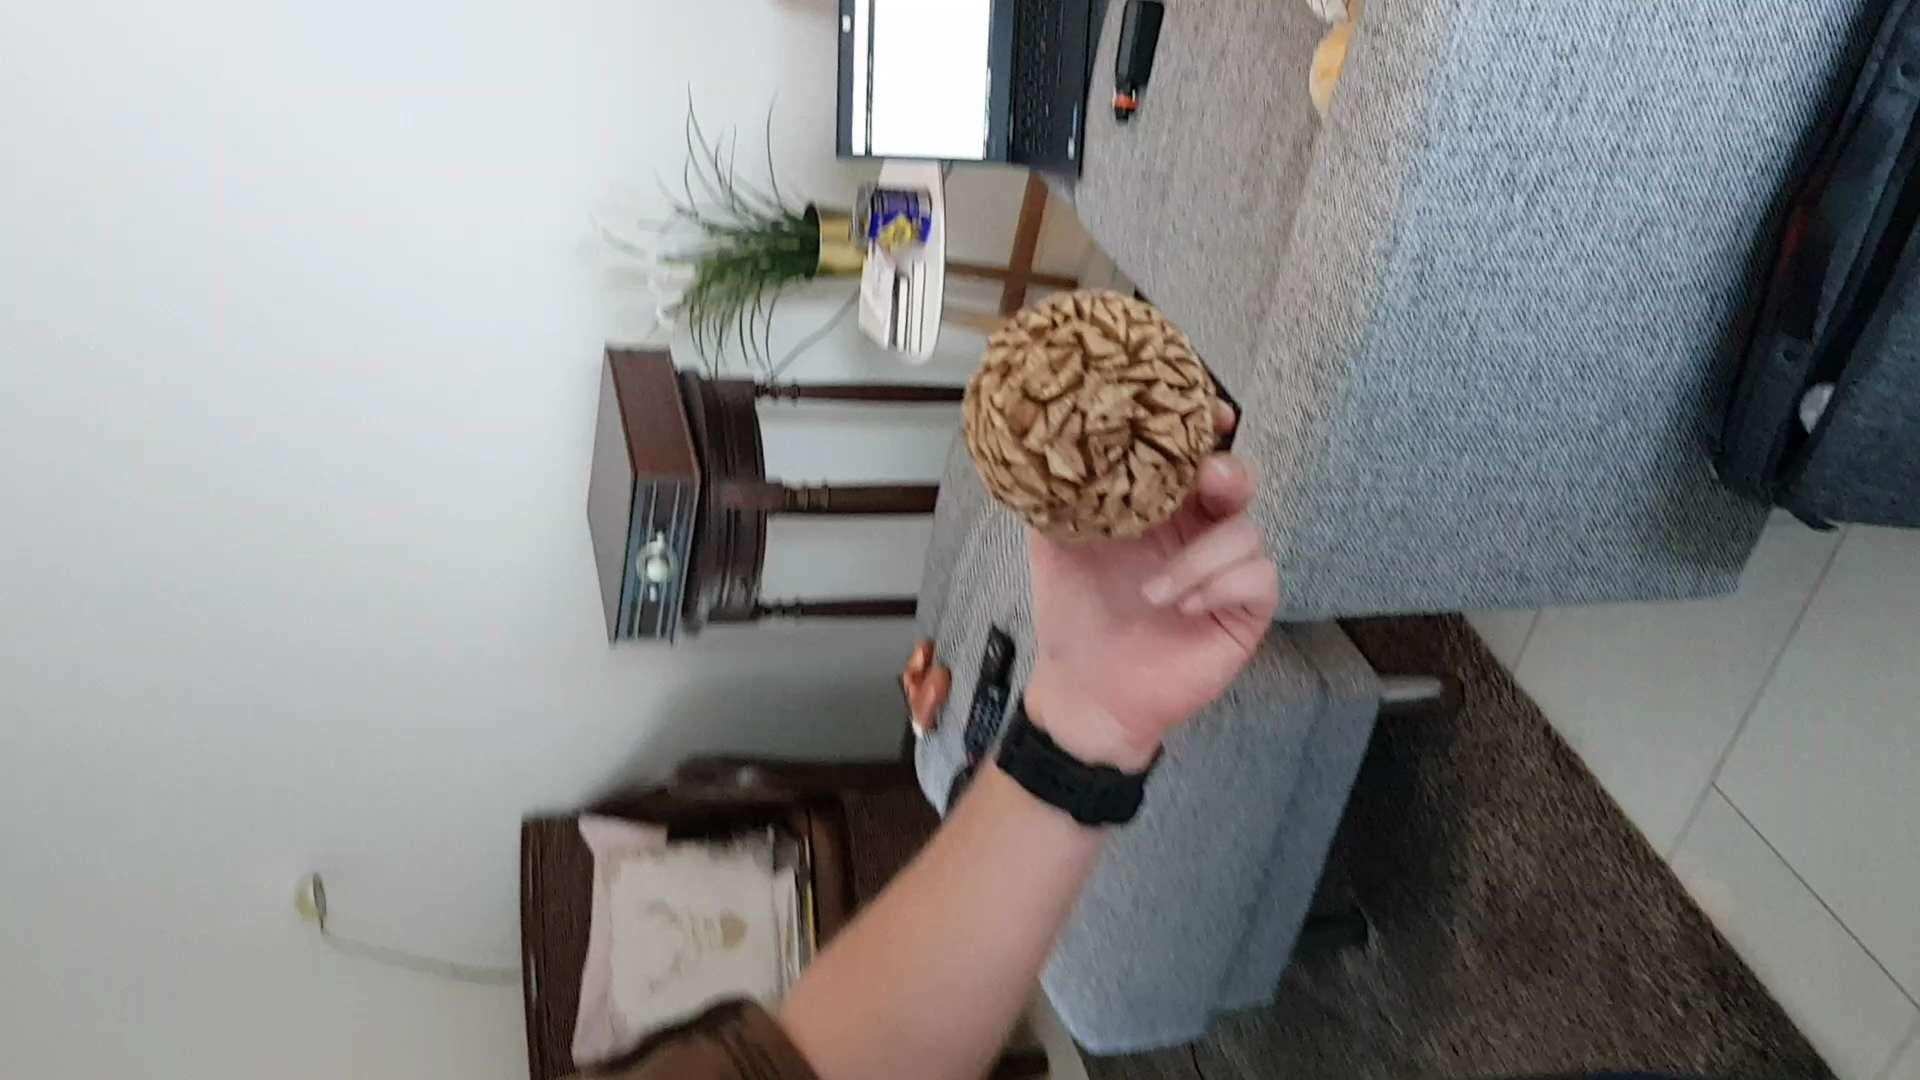sphere: (957, 282, 1226, 541)
